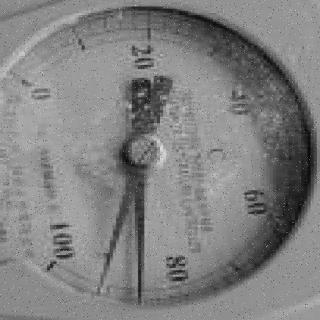gauge: (1, 0, 320, 318), (120, 127, 168, 175), (31, 237, 75, 289), (0, 60, 45, 108), (92, 278, 108, 298), (132, 290, 146, 309)
